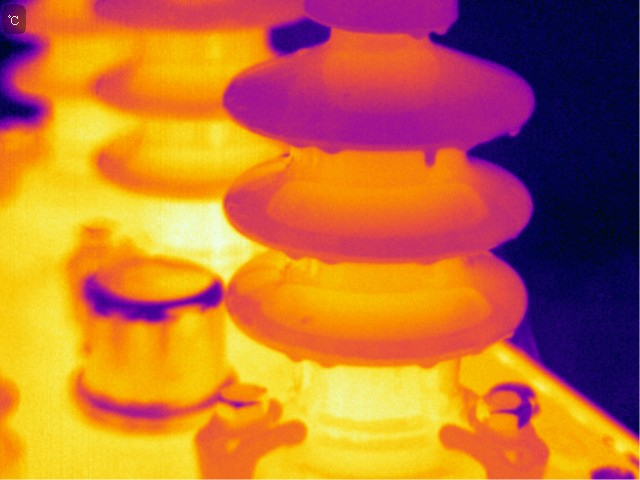Oil: (500, 321, 522, 345), (421, 143, 439, 169), (286, 44, 314, 60), (319, 253, 345, 266), (320, 141, 344, 155), (317, 357, 342, 370), (407, 27, 429, 41), (287, 349, 305, 365), (283, 248, 305, 261), (418, 357, 438, 370), (419, 255, 439, 267), (433, 24, 451, 36), (507, 121, 519, 138)
